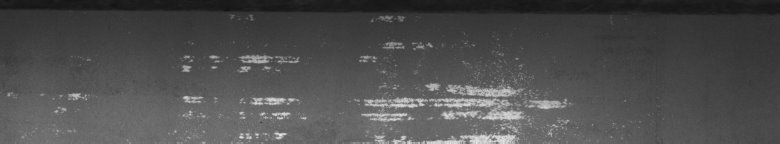kb: (4, 8, 697, 136)
